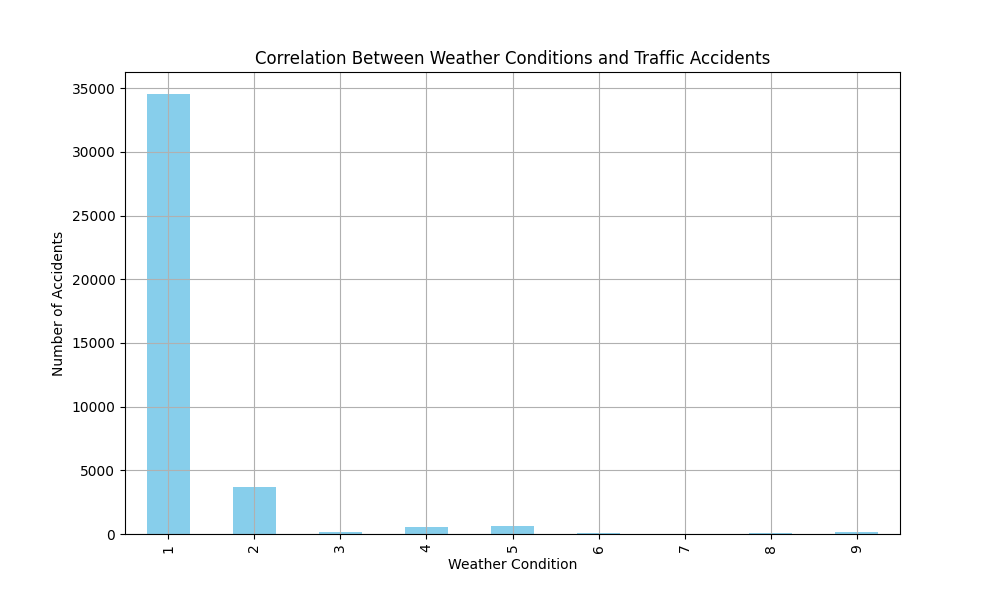

The dashboard page shown, as its layout file describes it:
{"tool":"tableau","page":{"name":"Dashboard 1","canvas":[1000,1000],"units":"permille","ordinal":0},"visuals":[{"type":"worksheet","title":"Sheet 2","mark":"Bar","rows":["count"],"cols":["date","date"],"box":[1.8,480.7,991,499.4]}]}

Visuals, with their boxes on the dashboard's canvas, which has no fixed pixel size, in thousandths of its width and height (x1, y1, x2, y2). These are canvas units, not pixel positions in the 1000x600 screenshot, which may show the page scaled, cropped or inside an application window:
"Sheet 2" worksheet (Bar marks): (2,481,993,980)
